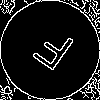F: (25, 25, 77, 80)
